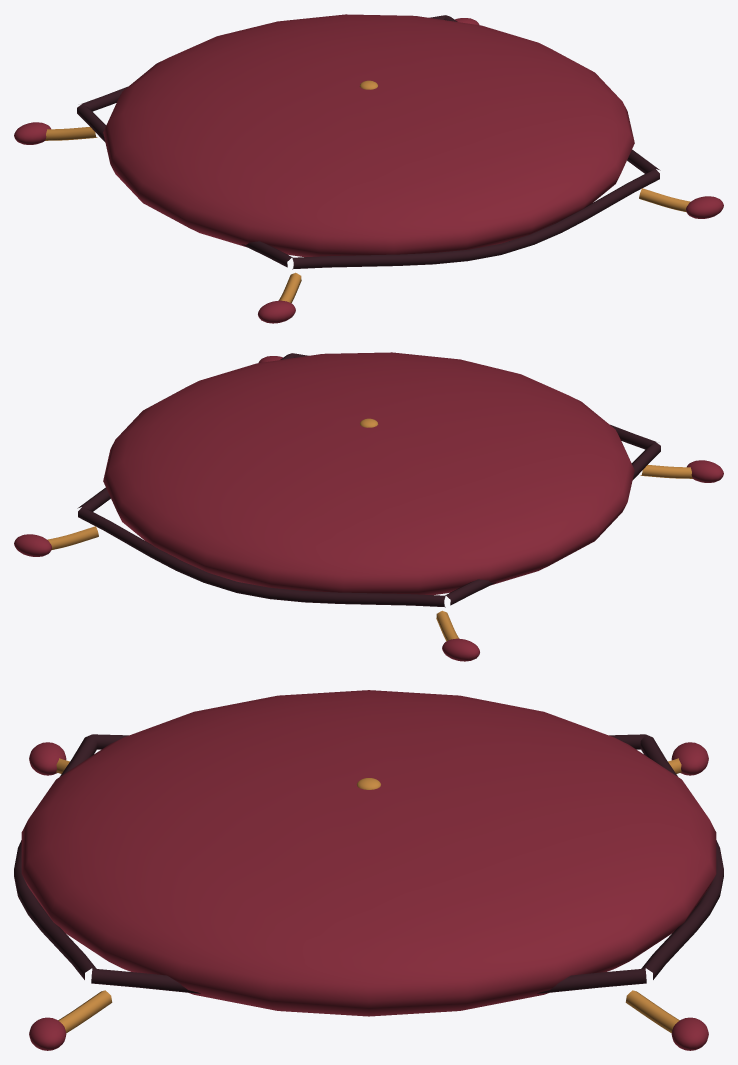
The model's file is mia-cushion.glb.
3 renders of one model, top to bottom at view 1: azimuth 30°, elevation 25°; view 2: azimuth 150°, elevation 25°; view 3: azimuth 270°, elevation 25°, orthographic. The views are drawn at different scales.
Visible parts, largest first — view 1: Body_velvet, Body_dark, Body_brass; view 2: Body_velvet, Body_dark, Body_brass; view 3: Body_velvet, Body_dark, Body_brass.
Part boxes in pixels (x1=…): Body_velvet: x1=14, y1=14, x2=723, y2=323; Body_dark: x1=77, y1=15, x2=660, y2=269; Body_brass: x1=45, y1=80, x2=690, y2=303; Body_velvet: x1=14, y1=352, x2=723, y2=661; Body_dark: x1=77, y1=353, x2=660, y2=607; Body_brass: x1=47, y1=418, x2=692, y2=641; Body_velvet: x1=21, y1=690, x2=716, y2=1050; Body_dark: x1=14, y1=734, x2=723, y2=993; Body_brass: x1=56, y1=758, x2=681, y2=1032.
Bounding box in the file's own units: 0.6796 × 0.151 × 0.6842.
